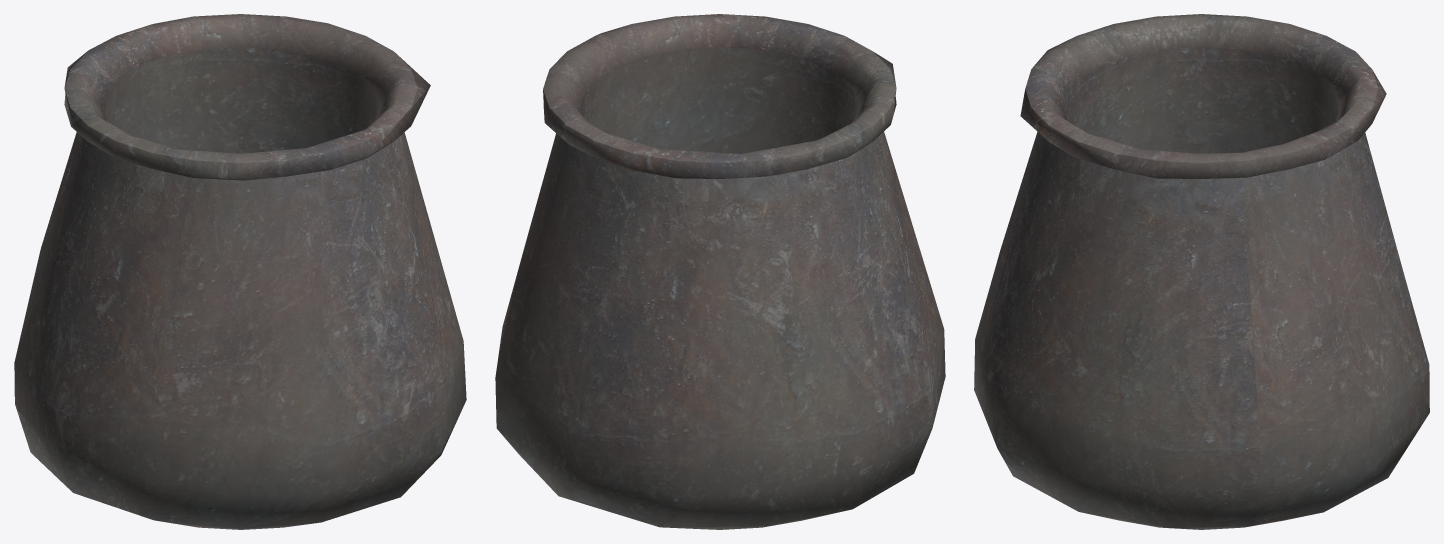
File: SM_KettlePot_01.fbx
3 renders of one model, left to right at view 1: azimuth 30°, elevation 25°; view 2: azimuth 150°, elevation 25°; view 3: azimuth 270°, elevation 25°, orthographic.
Parts seen in each view (by area): view 1: SM_KettlePot_01_LOD0; view 2: SM_KettlePot_01_LOD0; view 3: SM_KettlePot_01_LOD0.
Part boxes in pixels (left/top/right/bottom): SM_KettlePot_01_LOD0: left=14, top=14, right=466, bottom=529; SM_KettlePot_01_LOD0: left=495, top=14, right=945, bottom=529; SM_KettlePot_01_LOD0: left=974, top=14, right=1429, bottom=529.
Bounding box in the file's own units: 32.86 × 32.95 × 30.29.
1 material, 1 textured.
